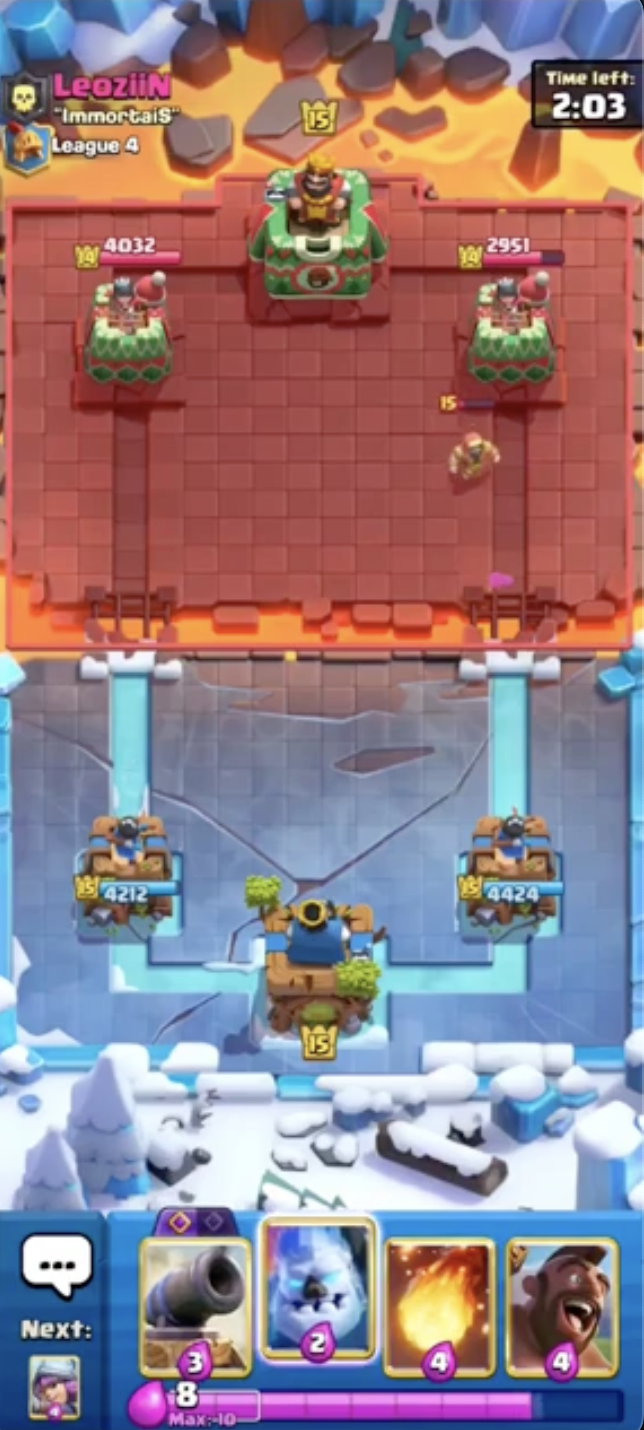hero-wizard: (436, 387, 507, 484)
